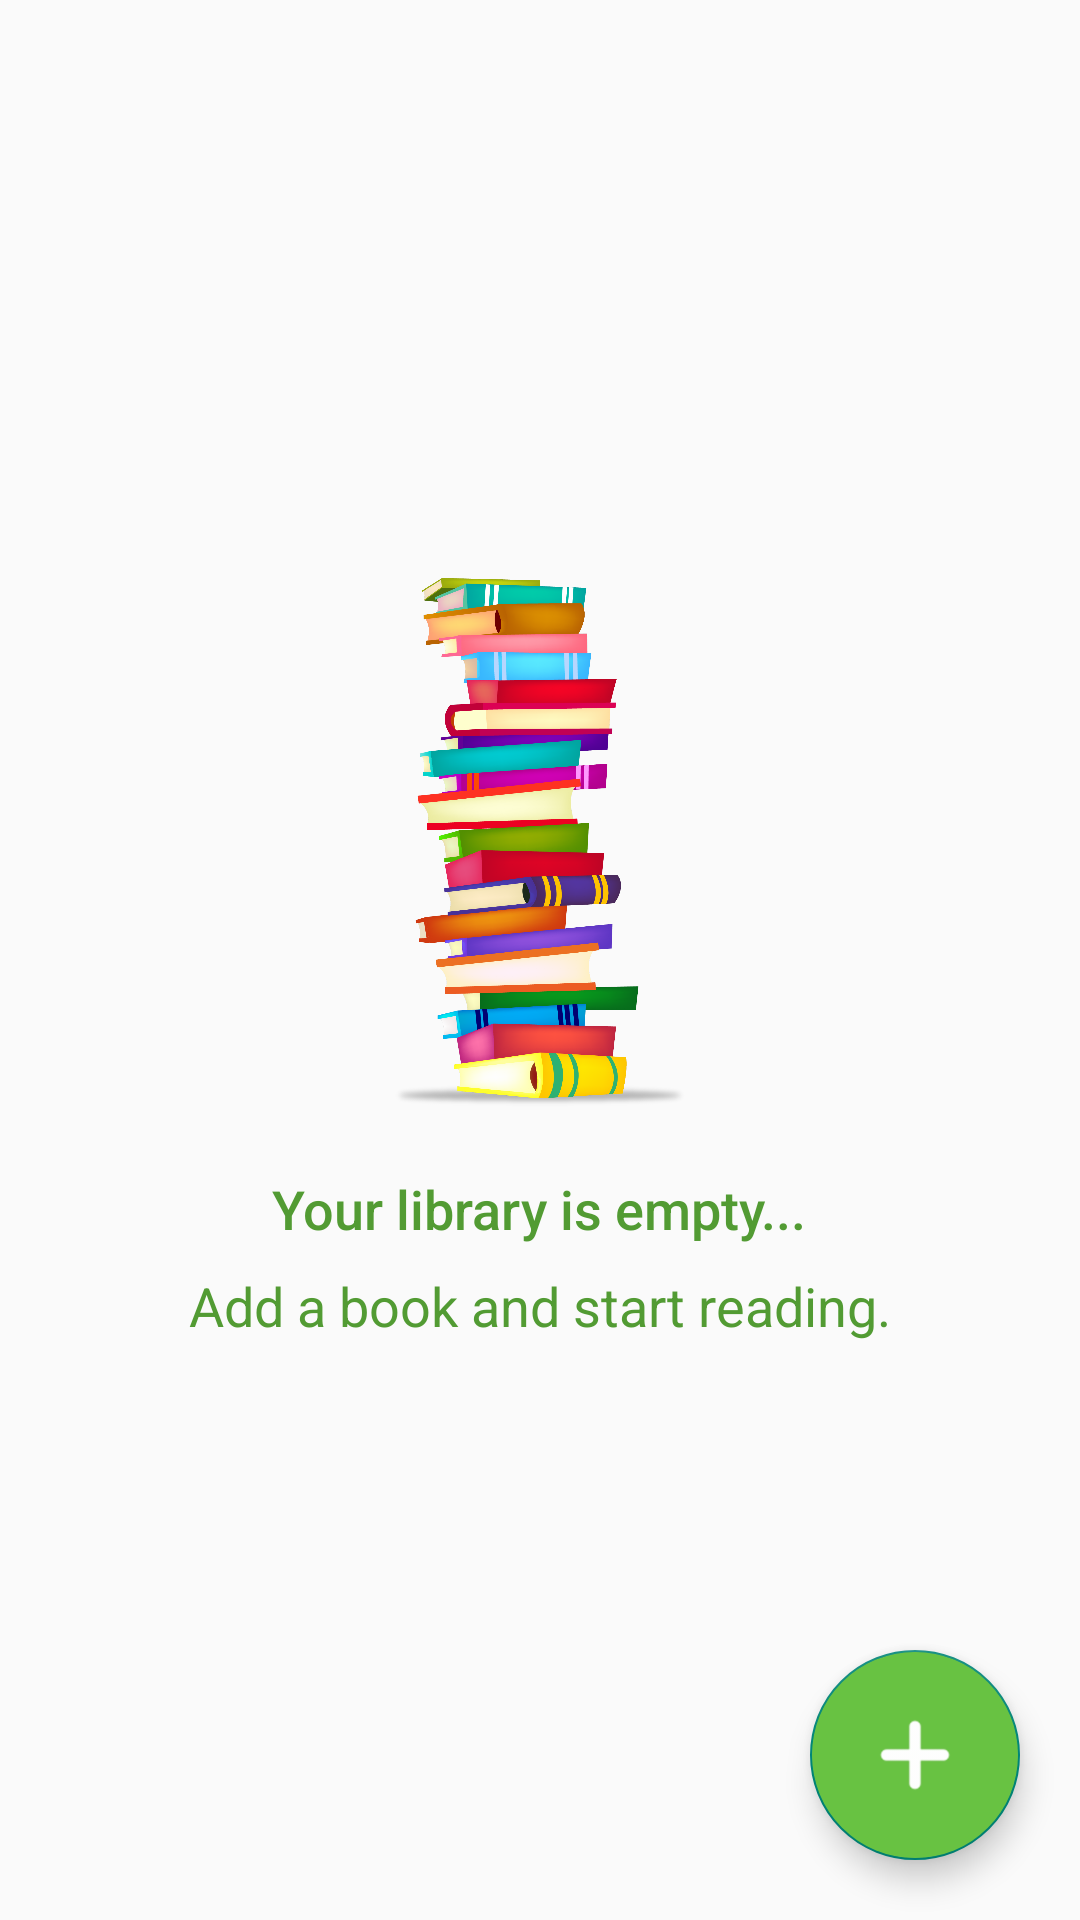

Screen size 1080 x 1920. Icon name, then its center in pixels as (x,y):
plus fab: (915,1755)
